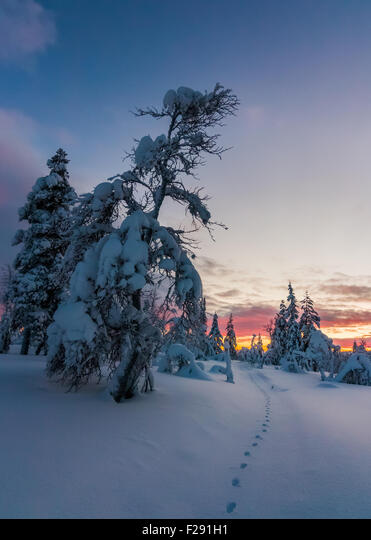fox: (226, 500, 239, 514), (237, 460, 250, 470), (232, 477, 239, 490)
